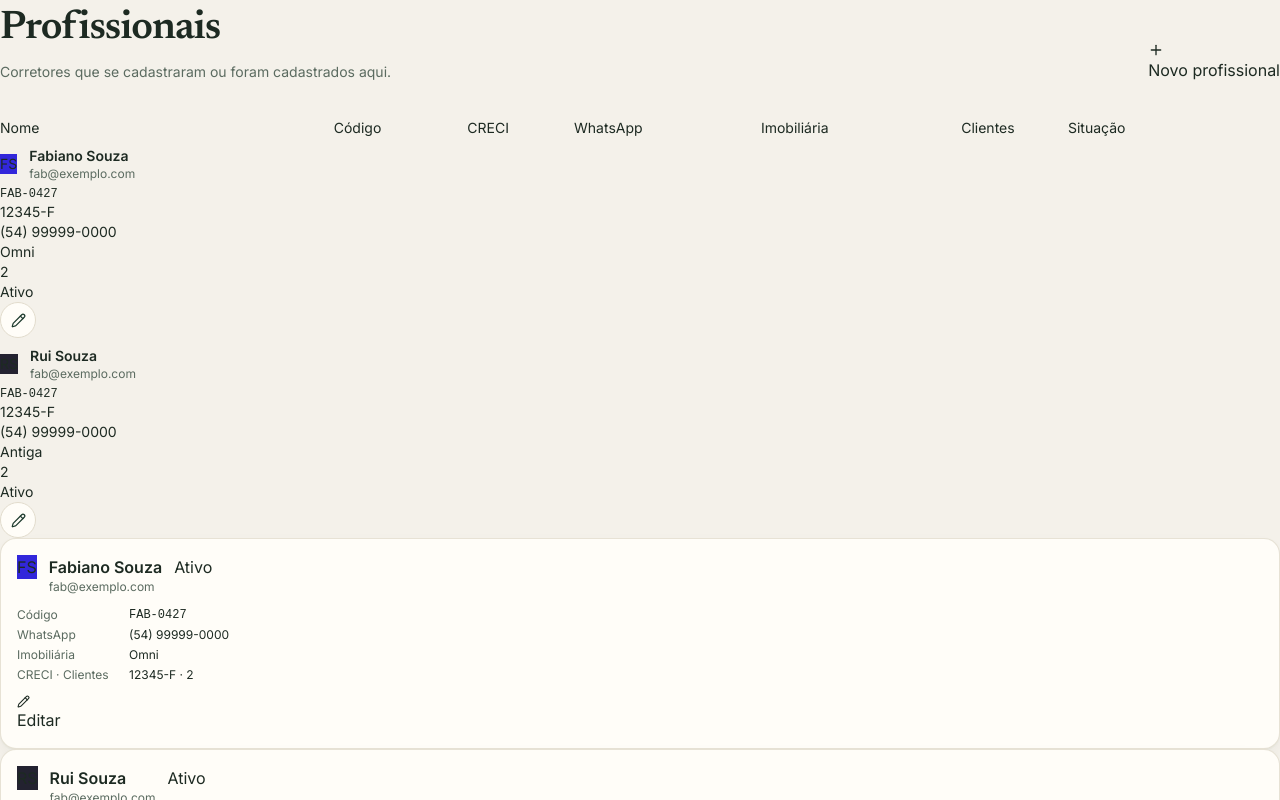
Test: BrokersPage › mostra a imobiliária por nome na lista e mantém a inativa já escolhida
The width and height of the screenshot is (1280, 800).
Later steps or results of the test are not shown.
Expected: the text "Omni" below "Nome" is shown, left=0, top=243, right=35, bottom=260
// A linha inteira da tabela abre a edição.
Click the row that starts with "Rui" at [68, 442], box left=0, top=347, right=136, bottom=538
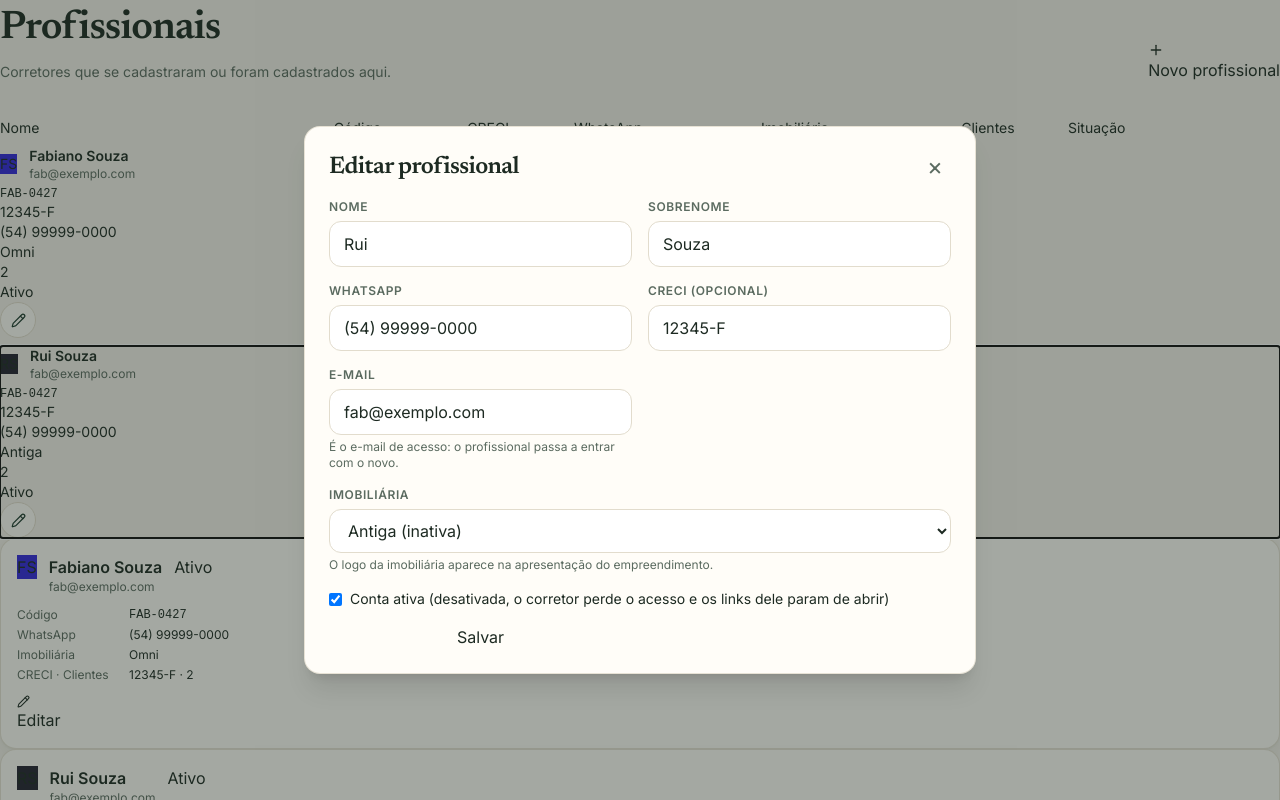
Expected: the dropdown labelled "Imobiliária" shows "Antiga (inativa)", left=329, top=509, right=951, bottom=553
